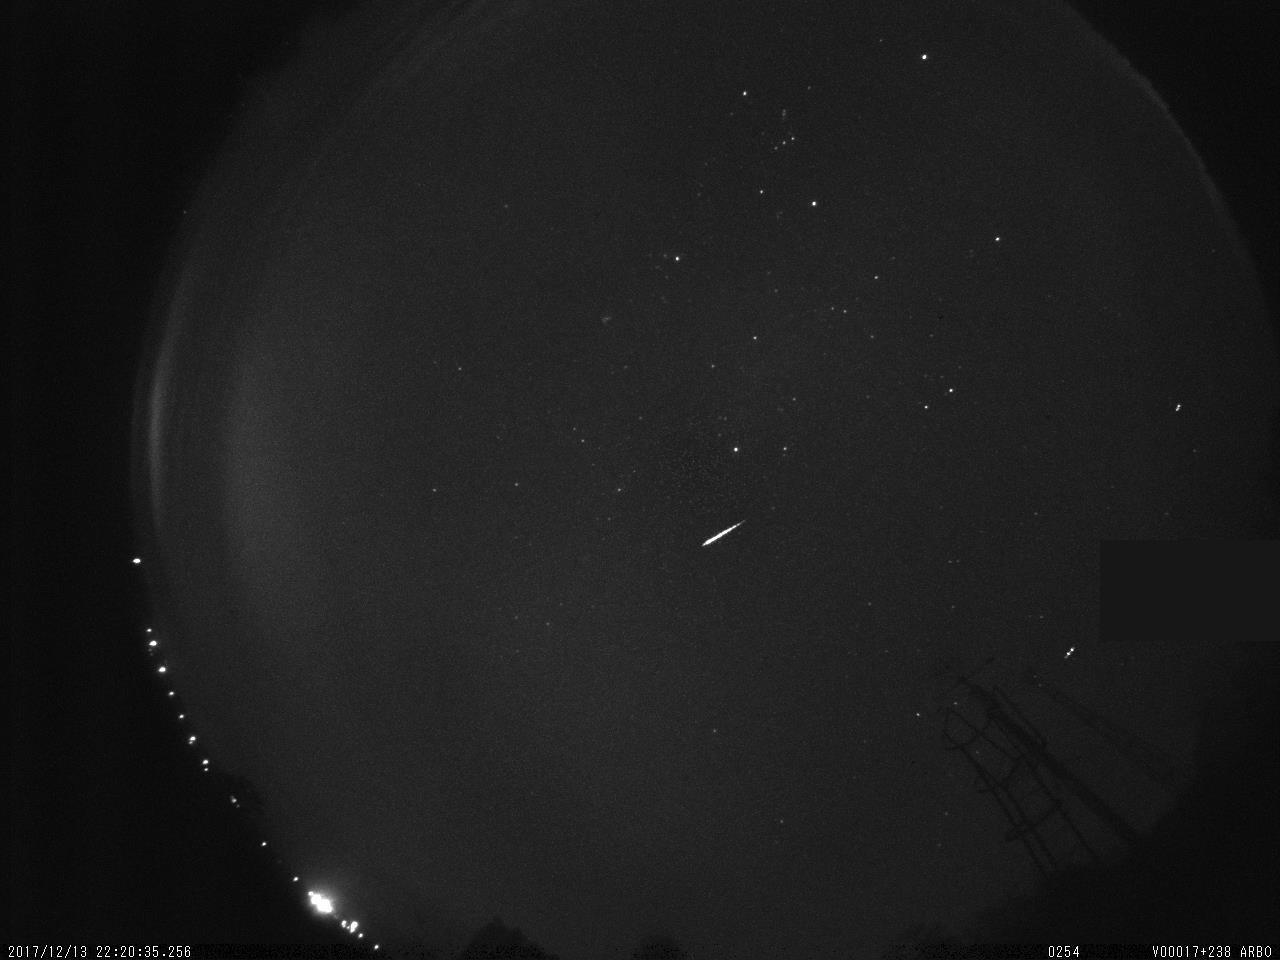meteor: (691, 510, 755, 558)
